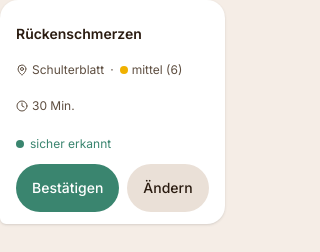
Scenario: ReviewBubble › Ändern-Button aktiviert Edit-Mode für erstes unbestätigtes Feld
What coordinates should you click on to do the following:
click the button "Ändern"
I would click on:
 (168, 188)
Its box is [127,164,209,212].
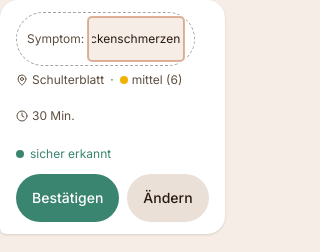
Expected: the field is shown, [88,17,184,61]
